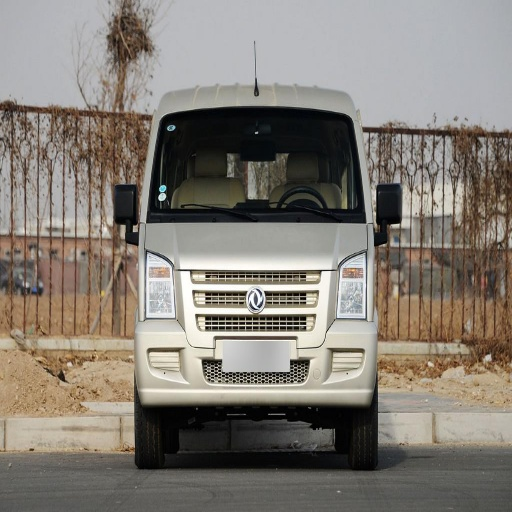front_bumper: (136, 269, 376, 407)
front_right_light: (137, 258, 177, 319)
hood: (146, 223, 368, 293)
left_mirror: (376, 185, 403, 226)
